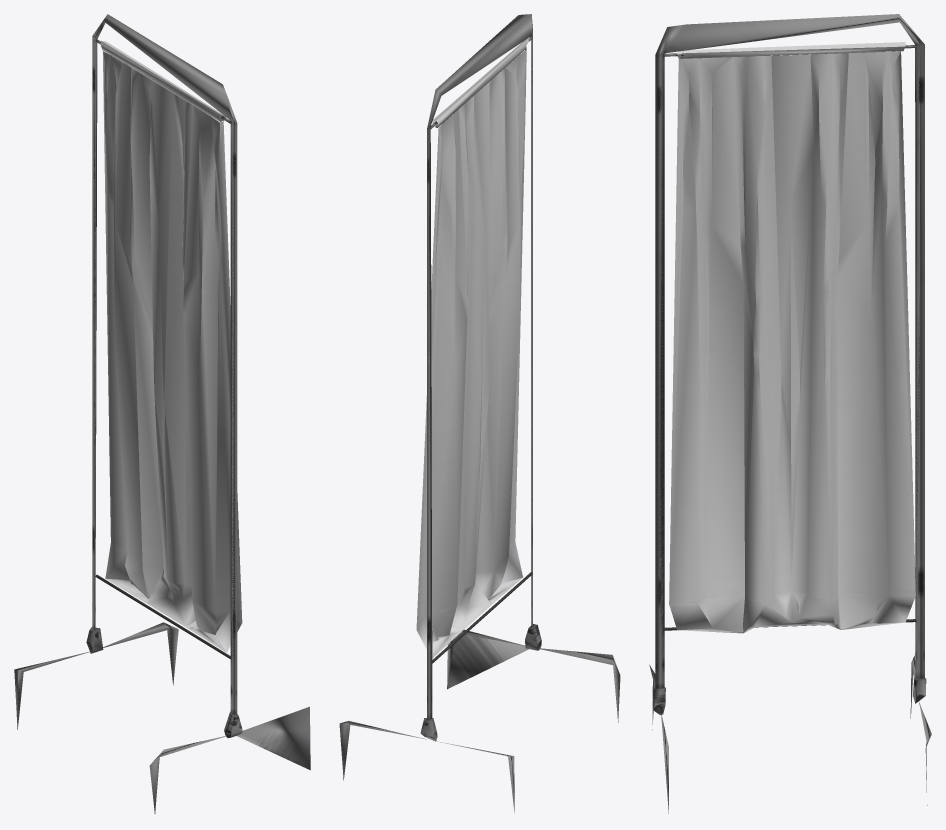
Rendered from curtain-screen.lod0.glb.
The picture shows the model from 3 angles, left to right: view 1: azimuth 30°, elevation 25°; view 2: azimuth 150°, elevation 25°; view 3: azimuth 270°, elevation 25°; orthographic projection. The views are drawn at different scales.
Visible parts, largest first — view 1: Object_0_remesh__0; view 2: Object_0_remesh__0; view 3: Object_0_remesh__0.
Part boxes in pixels (x1,y1,x2,y2): Object_0_remesh__0: [14, 14, 310, 813]; Object_0_remesh__0: [339, 14, 620, 812]; Object_0_remesh__0: [649, 14, 931, 813].
Size of the model in its own units: 0.4458 by 1.64 by 0.5603.
Materials: 1 (1 with a texture image).
